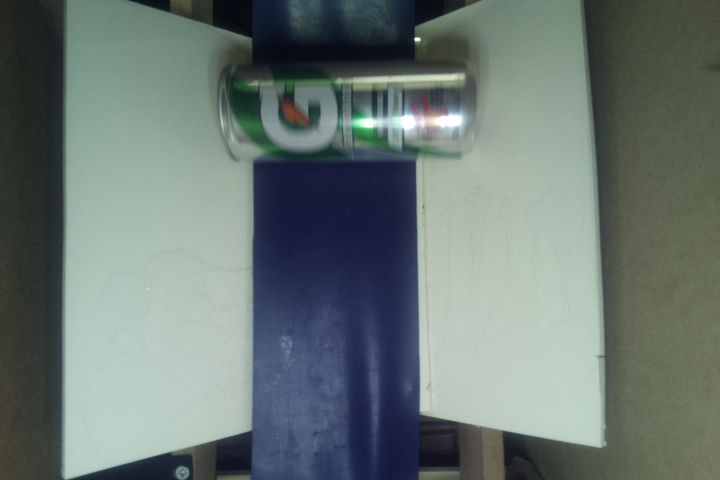can: (220, 50, 484, 170)
